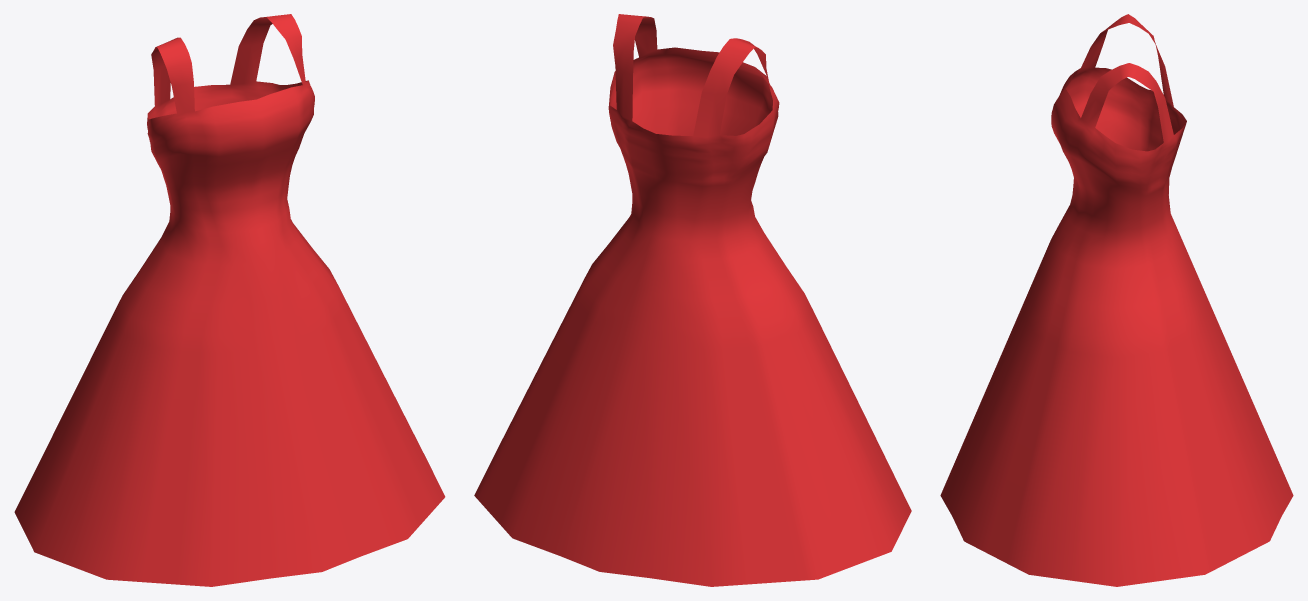
File: dress_v10.fbx
3 views of the same model, side by side, from view 1: azimuth 30°, elevation 25°; view 2: azimuth 150°, elevation 25°; view 3: azimuth 270°, elevation 25° (orthographic). The views are drawn at different scales.
Visible parts, largest first — view 1: Dress; view 2: Dress; view 3: Dress.
Boxes of the visible parts, x1,y1,x2,y2 form: Dress: [14, 14, 445, 586]; Dress: [474, 14, 911, 586]; Dress: [940, 14, 1293, 586].
Size of the model in its own units: 281 by 325 by 230.
